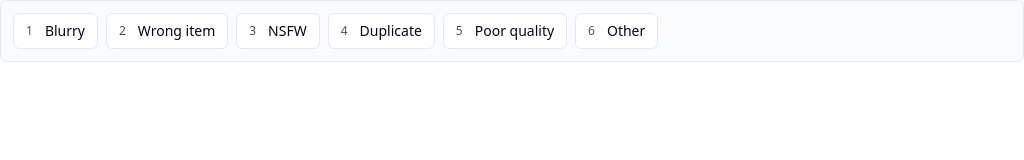
it: RejectReasonPicker › reveals the inline input when Other is clicked and does NOT submit yet
Click the button "6 Other".
click(617, 31)  # box left=575, top=13, right=658, bottom=49
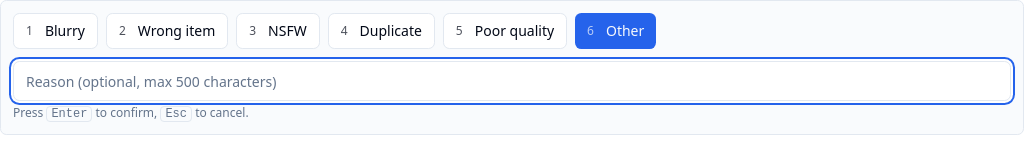
Result: the field named "Other rejection reason text" is shown at left=13, top=61, right=1011, bottom=101
